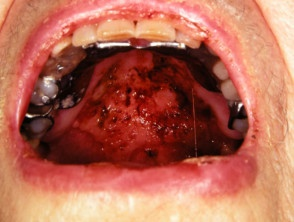SJS-TEN: (42, 51, 223, 197)
